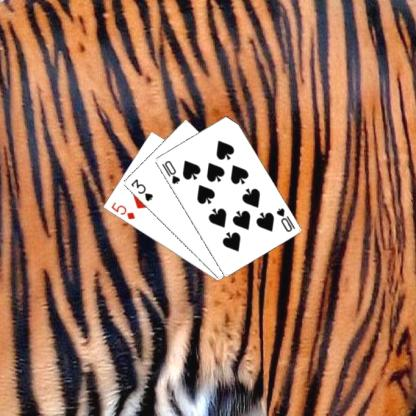10S: (273, 205, 296, 234), (159, 158, 181, 186)
3S: (128, 176, 154, 202)
5D: (108, 199, 136, 221)
